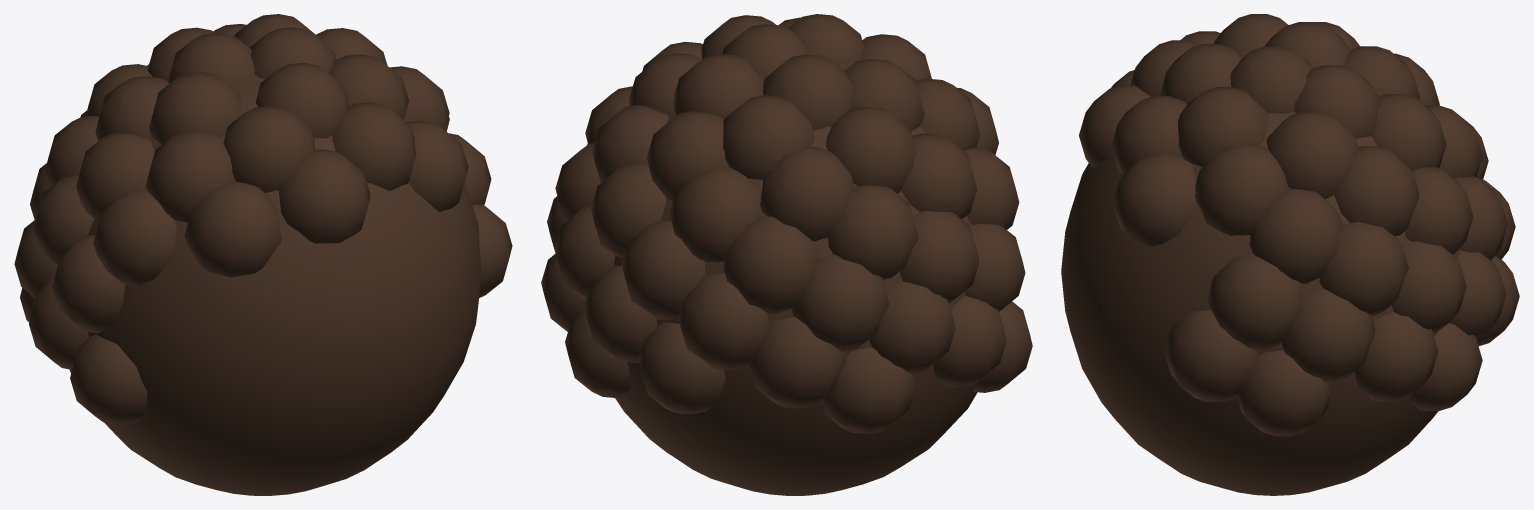
The model's file is hair_afro.fbx.
3 views of the same model, side by side, from view 1: azimuth 30°, elevation 25°; view 2: azimuth 150°, elevation 25°; view 3: azimuth 270°, elevation 25° (orthographic).
Visible parts, largest first — view 1: hair_afro; view 2: hair_afro; view 3: hair_afro.
Boxes of the visible parts, box(x1,y1,x2,y2) form: hair_afro: box(14, 14, 512, 495); hair_afro: box(541, 14, 1032, 495); hair_afro: box(1061, 14, 1519, 495).
Bounding box in the file's own units: 0.408 × 0.3962 × 0.3759.
